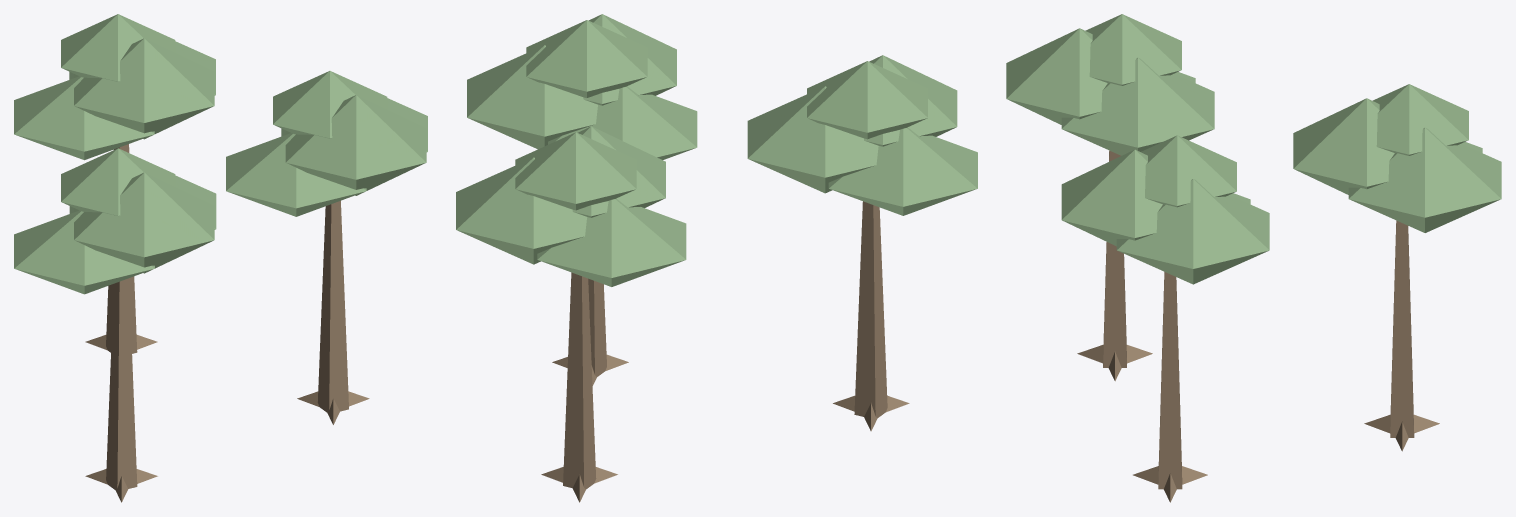
File: grove-0.glb
3 views of the same model, side by side, from view 1: azimuth 30°, elevation 25°; view 2: azimuth 150°, elevation 25°; view 3: azimuth 270°, elevation 25° (orthographic). The views are drawn at different scales.
Bounding box in the file's own units: 4.89 × 3.49 × 4.49.
